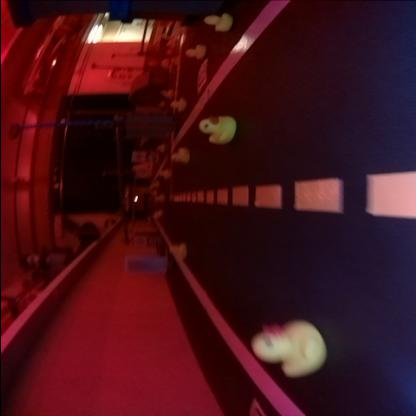Duckie: (252, 320, 324, 376), (199, 116, 233, 144), (203, 14, 230, 32), (184, 44, 204, 58), (170, 148, 186, 164), (168, 244, 184, 260), (170, 99, 184, 113)
QR code: (193, 58, 209, 92)
